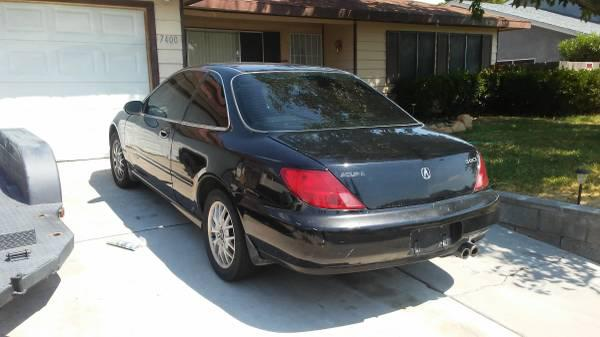acura: (98, 55, 513, 301)
